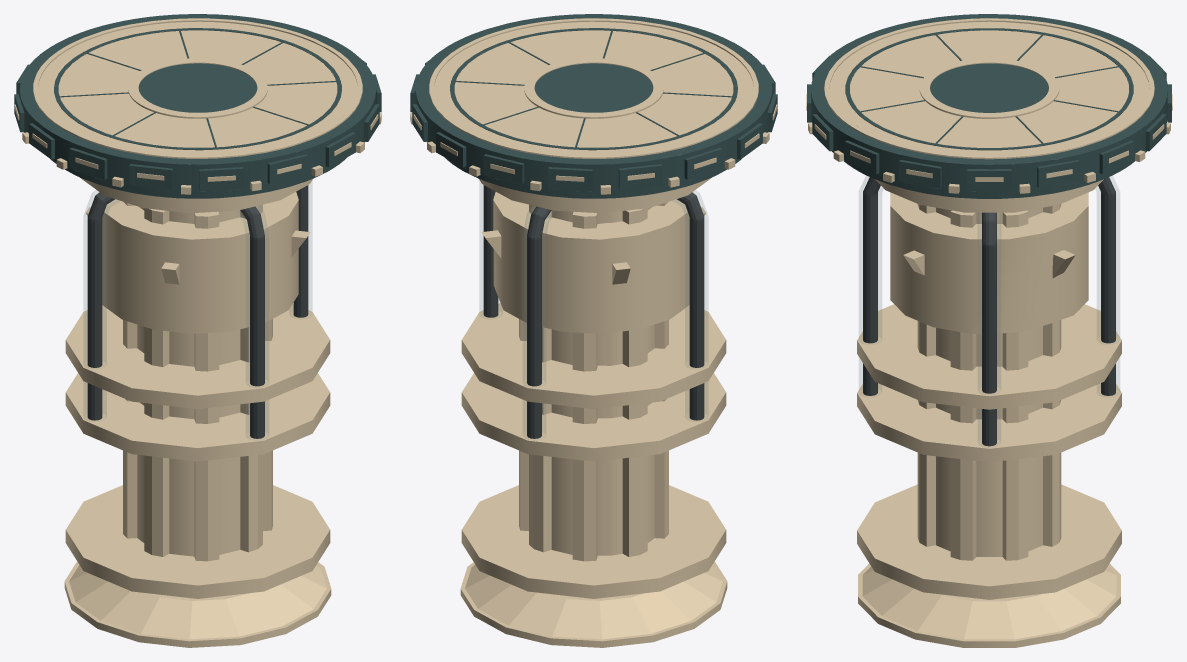
Rendered from Platform_Pillar_D18_lab2.glb.
3 views of the same model, side by side, from view 1: azimuth 30°, elevation 25°; view 2: azimuth 150°, elevation 25°; view 3: azimuth 270°, elevation 25° (orthographic).
Parts seen in each view (by area): view 1: Platform_Pillar_D18; view 2: Platform_Pillar_D18; view 3: Platform_Pillar_D18.
Part boxes in pixels (box(x1,y1,x2,y2)): Platform_Pillar_D18: box(14, 14, 381, 647); Platform_Pillar_D18: box(410, 14, 777, 647); Platform_Pillar_D18: box(806, 14, 1172, 647).
Bounding box in the file's own units: 12.32 × 18.71 × 12.32.
